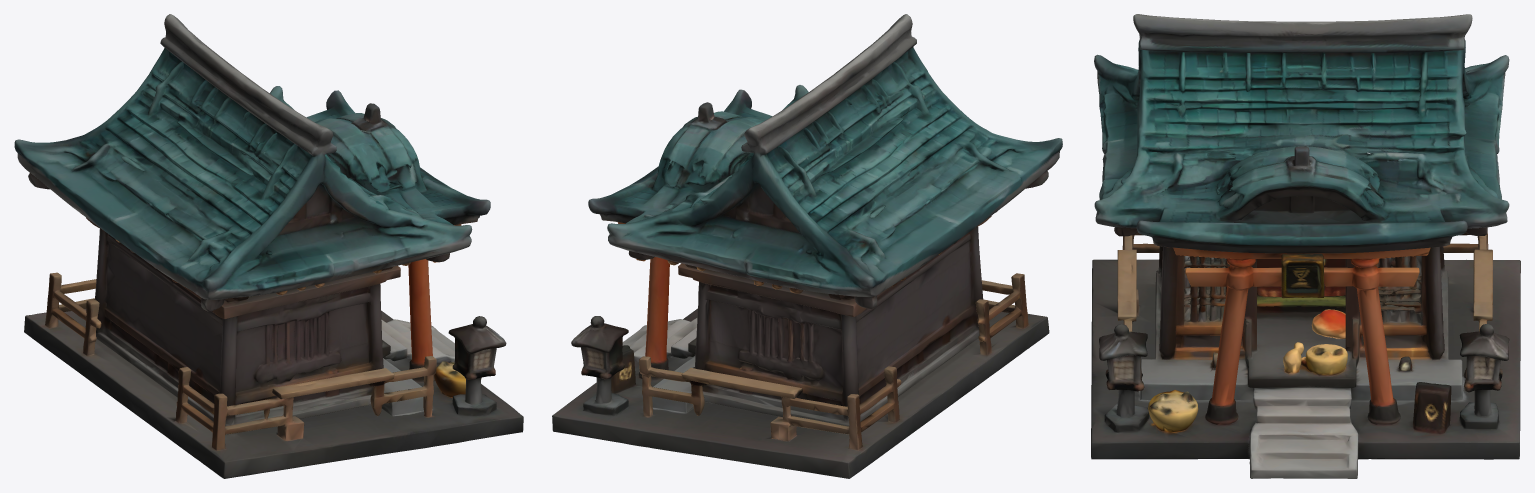
File: prop-shrine-small.glb
3 views of the same model, side by side, from view 1: azimuth 30°, elevation 25°; view 2: azimuth 150°, elevation 25°; view 3: azimuth 270°, elevation 25° (orthographic). The views are drawn at different scales.
Visible parts, largest first — view 1: tripo_node_9c5e96ca-879c-4bd1-870e-59af918cdd8a; view 2: tripo_node_9c5e96ca-879c-4bd1-870e-59af918cdd8a; view 3: tripo_node_9c5e96ca-879c-4bd1-870e-59af918cdd8a.
Boxes of the visible parts, x1=… form: tripo_node_9c5e96ca-879c-4bd1-870e-59af918cdd8a: x1=14, y1=14, x2=523, y2=478; tripo_node_9c5e96ca-879c-4bd1-870e-59af918cdd8a: x1=552, y1=14, x2=1062, y2=478; tripo_node_9c5e96ca-879c-4bd1-870e-59af918cdd8a: x1=1091, y1=14, x2=1520, y2=478.
Bounding box in the file's own units: 3.3 × 3 × 3.29.
1 material, 1 textured.
